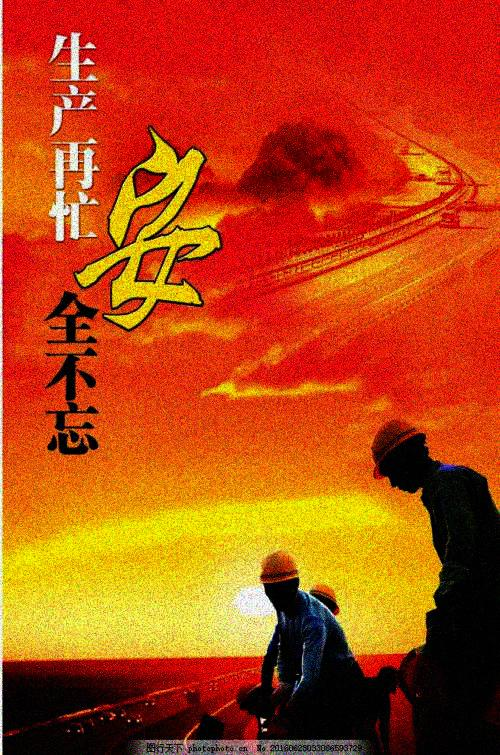helmet: (370, 416, 432, 496), (260, 546, 302, 606), (234, 677, 270, 718), (304, 581, 341, 619)
